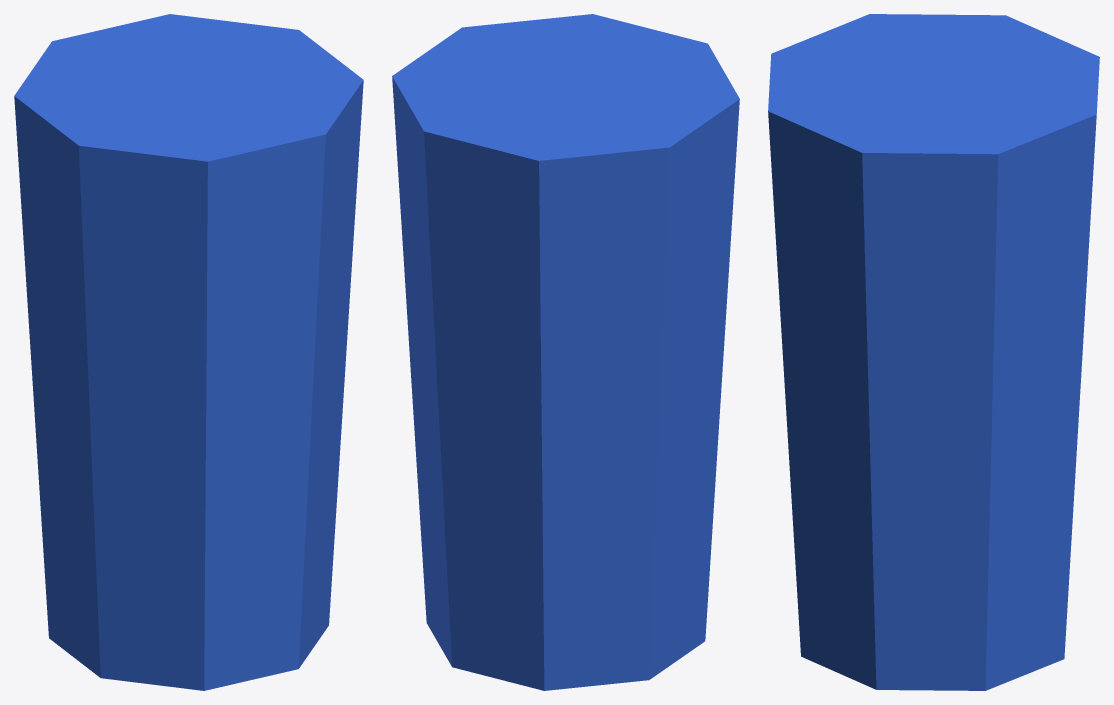
The model's file is Collision_Chalice_Golden.fbx.
The picture shows the model from 3 angles, left to right: view 1: azimuth 30°, elevation 25°; view 2: azimuth 150°, elevation 25°; view 3: azimuth 270°, elevation 25°; orthographic projection.
Visible parts, largest first — view 1: UCX_Chalice_Golden_1; view 2: UCX_Chalice_Golden_1; view 3: UCX_Chalice_Golden_1.
Part boxes in pixels (x1,y1,x2,y2): UCX_Chalice_Golden_1: (14, 14, 363, 690); UCX_Chalice_Golden_1: (392, 14, 739, 690); UCX_Chalice_Golden_1: (768, 14, 1099, 690).
Size of the model in its own units: 12.96 by 23.72 by 12.96.
